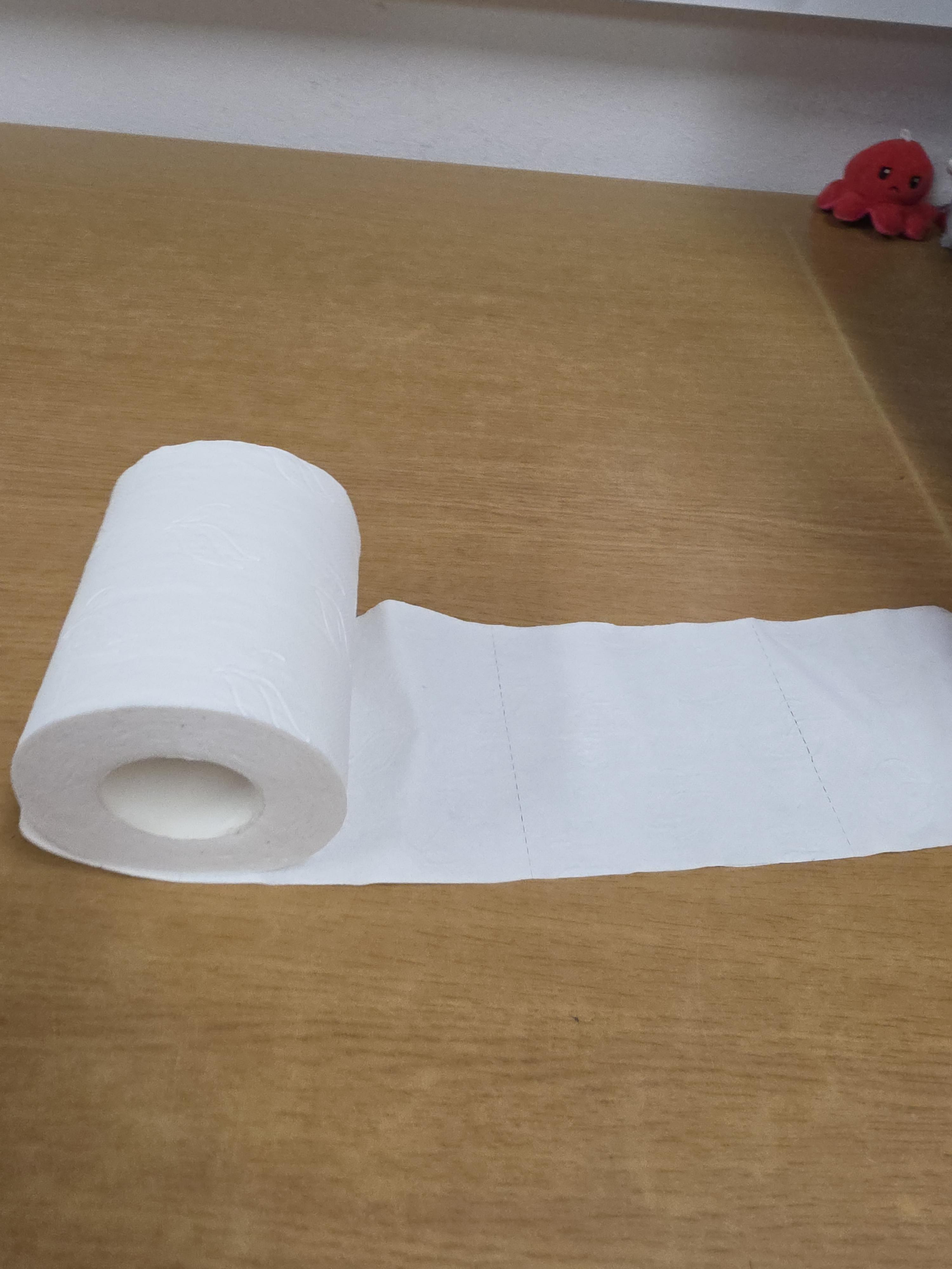tissue: (10, 439, 951, 886)
